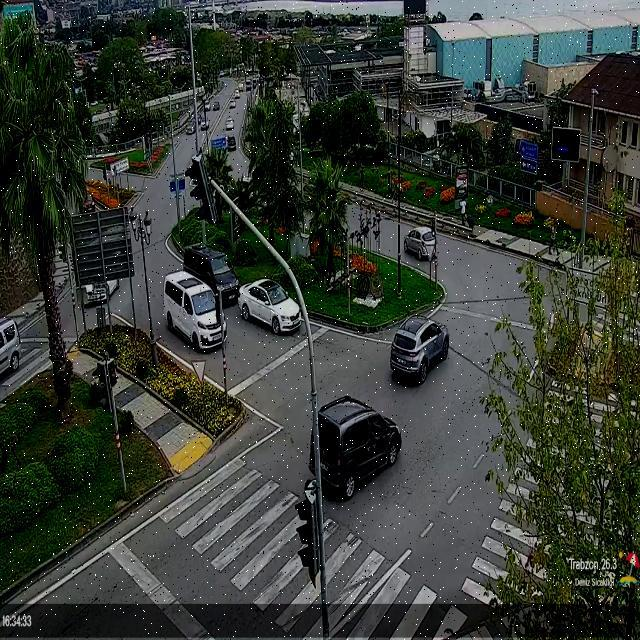car: (320, 396, 401, 498), (164, 271, 222, 349), (390, 316, 449, 382), (238, 279, 300, 334), (0, 318, 20, 373), (404, 226, 435, 259)
traffic-lights: (94, 351, 126, 492), (295, 480, 320, 584), (185, 154, 215, 223)
